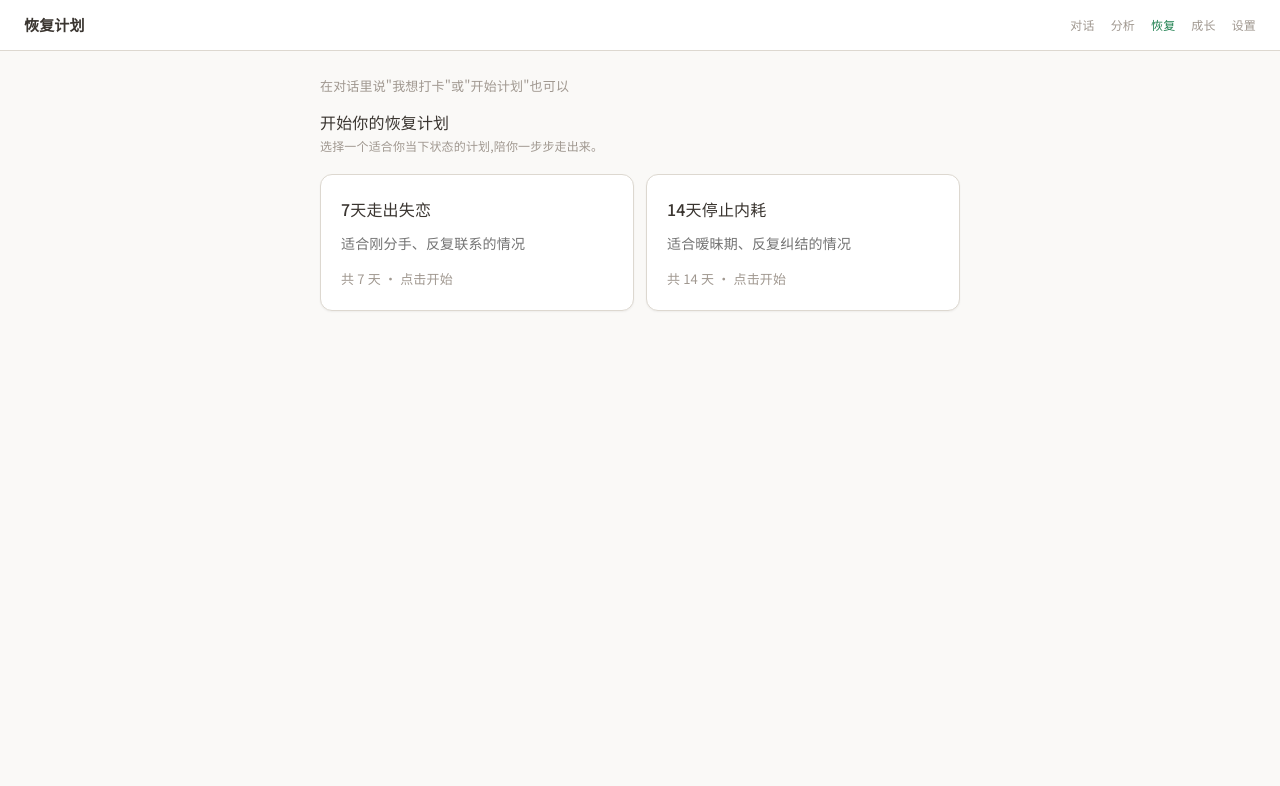
it: <RecoveryPage /> › 点击选项卡片触发 createPlan 并加载详情
Click the button with test id "plan-option-7day-breakup" at (477, 243), box [320,174,634,311]
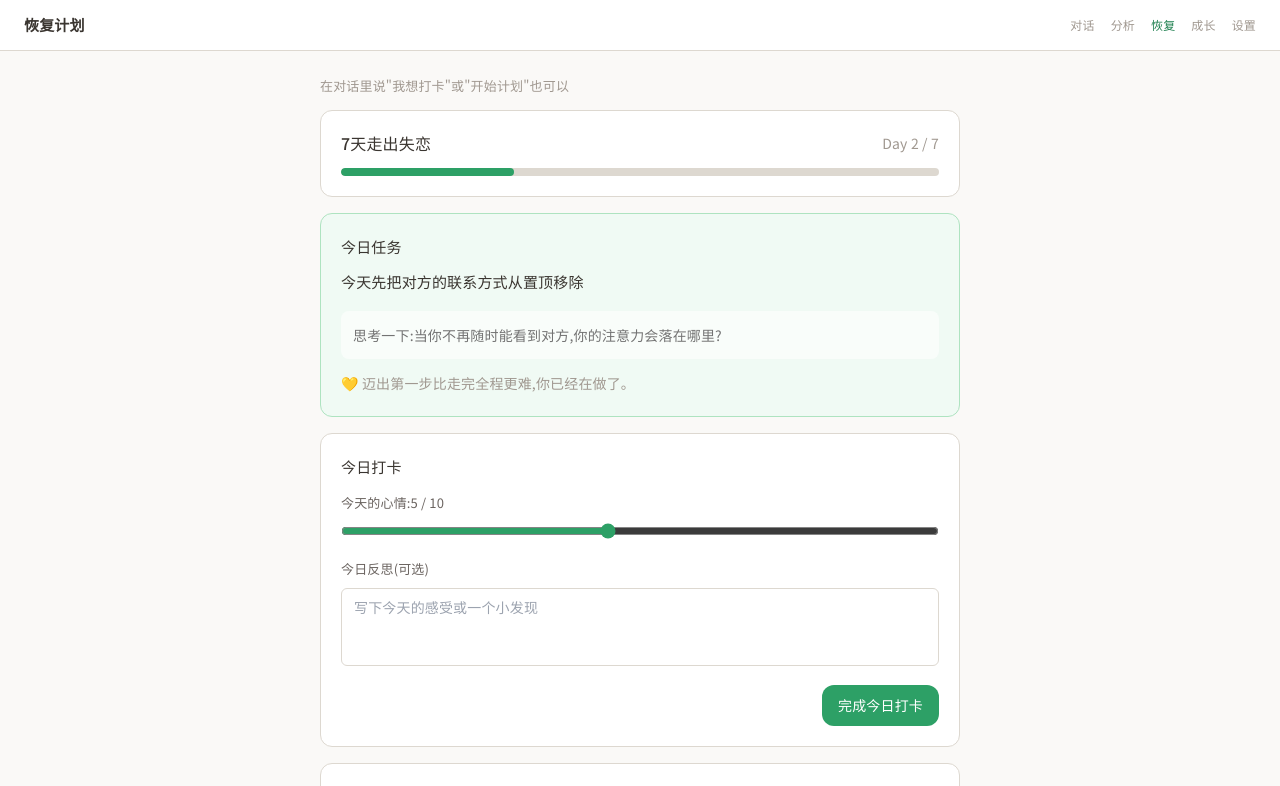
Result: the text "Day 2 / 7" is shown at [882,131,939,156]
Result: the text "今天先把对方的联系方式从置顶移除" is shown at [341,271,584,292]
